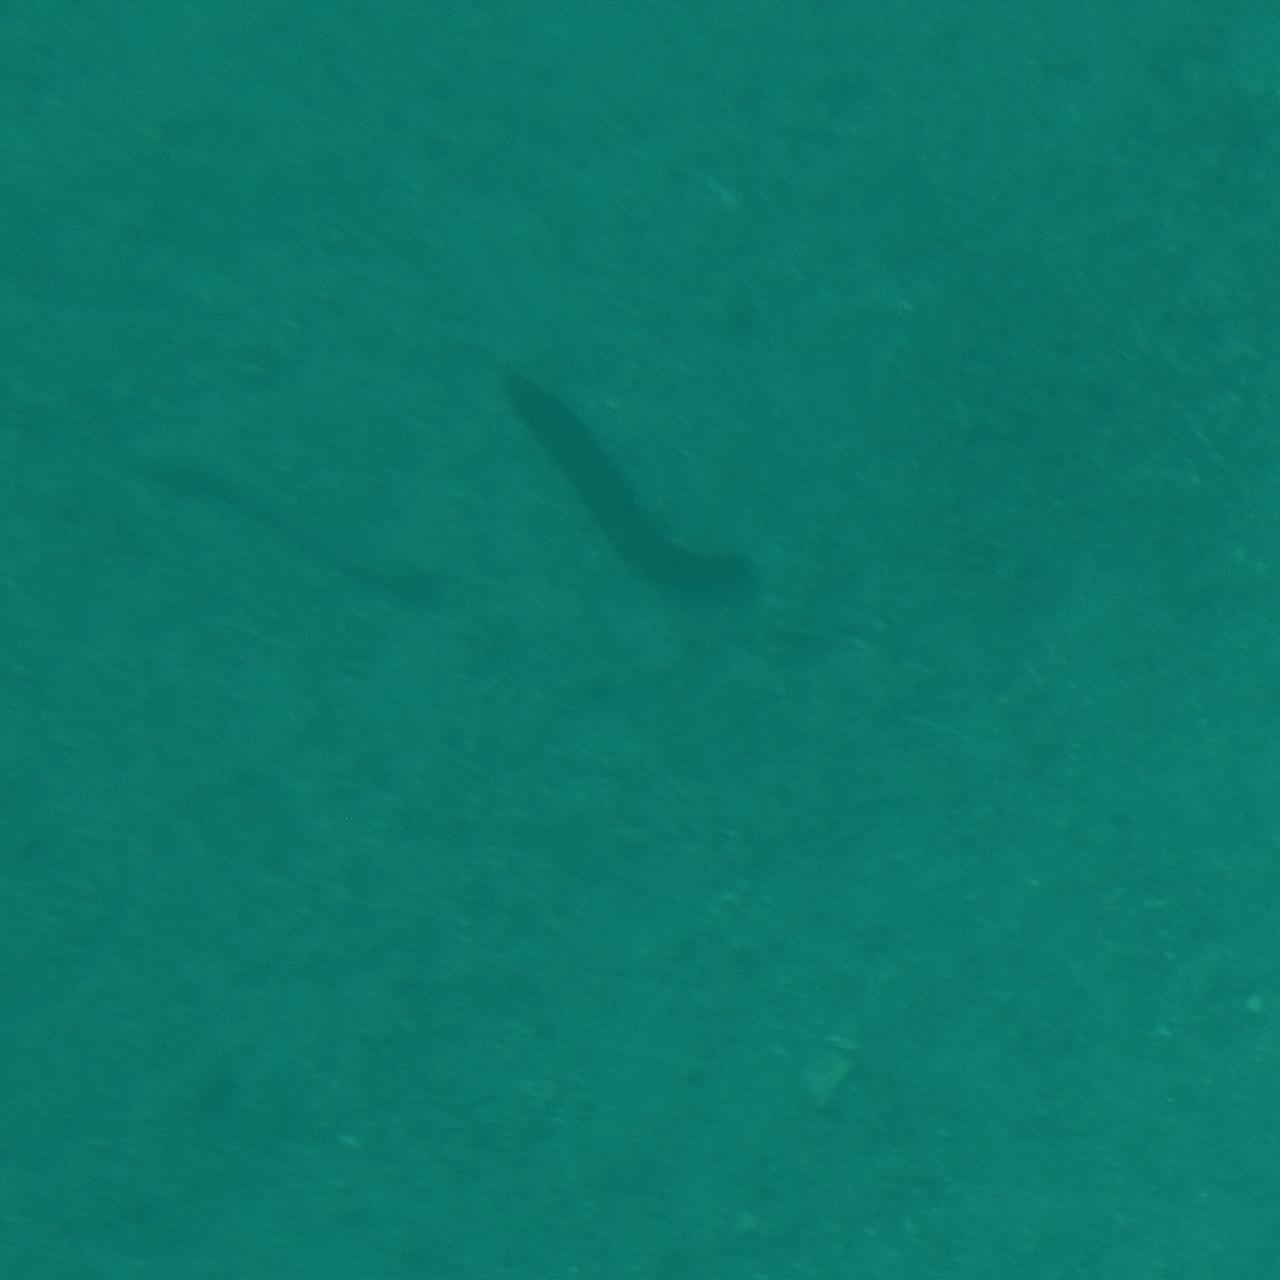Holothuria tubulosa: (489, 349, 791, 619)
